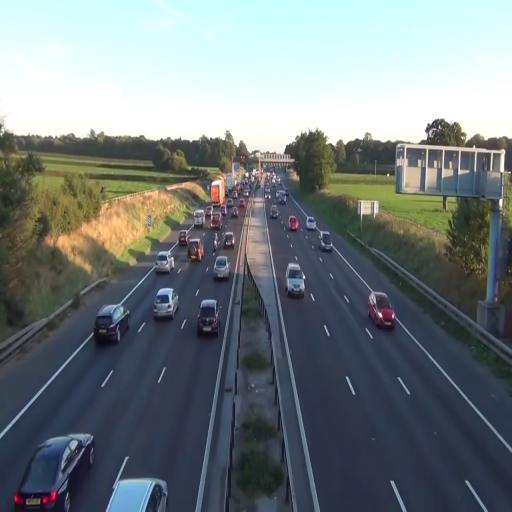vehicle: (13, 432, 95, 510), (105, 465, 168, 512), (94, 302, 130, 346), (367, 290, 396, 331), (153, 286, 179, 320), (197, 299, 220, 336), (286, 263, 306, 297), (212, 255, 231, 282), (210, 176, 226, 206), (187, 237, 204, 261), (155, 252, 173, 274), (222, 231, 235, 250), (320, 231, 332, 251), (288, 215, 299, 232), (305, 217, 317, 230)
